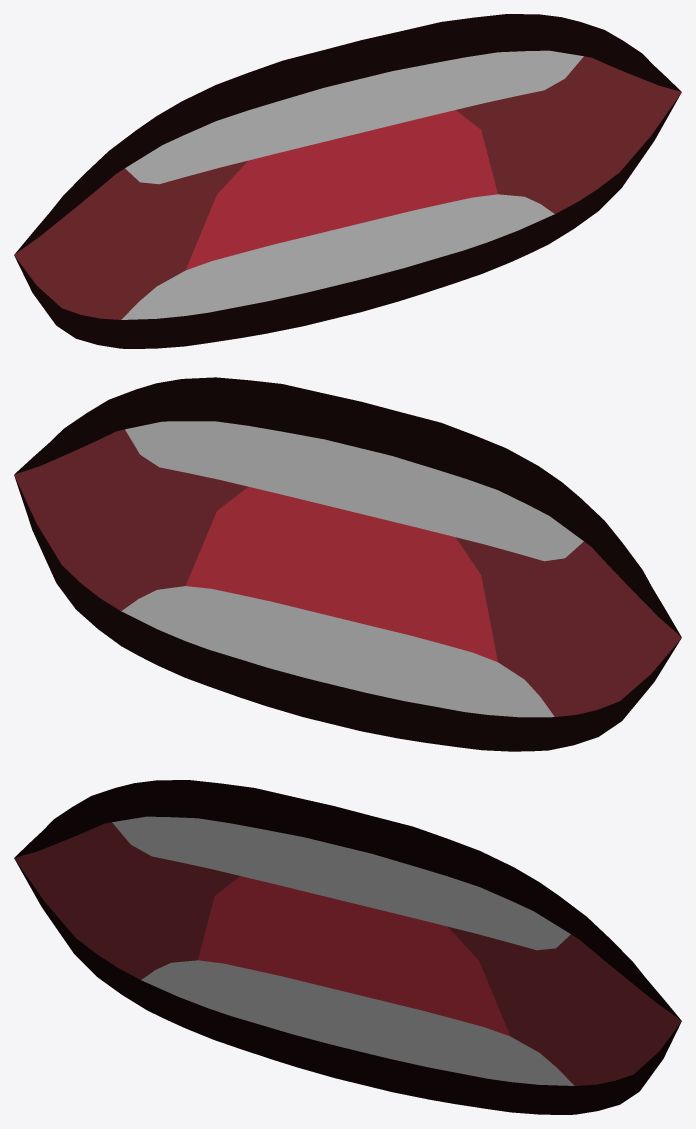
File: flip_th.glb
3 views of the same model, one above another, from view 1: azimuth 30°, elevation 25°; view 2: azimuth 150°, elevation 25°; view 3: azimuth 330°, elevation 25° (orthographic).
Parts seen in each view (by area): view 1: flip_th; view 2: flip_th; view 3: flip_th.
Part boxes in pixels (<box>): flip_th: <box>14,14,681,348</box>; flip_th: <box>14,377,681,751</box>; flip_th: <box>14,780,681,1114</box>.
Bounding box in the file's own units: 0.082 × 0.0353 × 0.00629.
